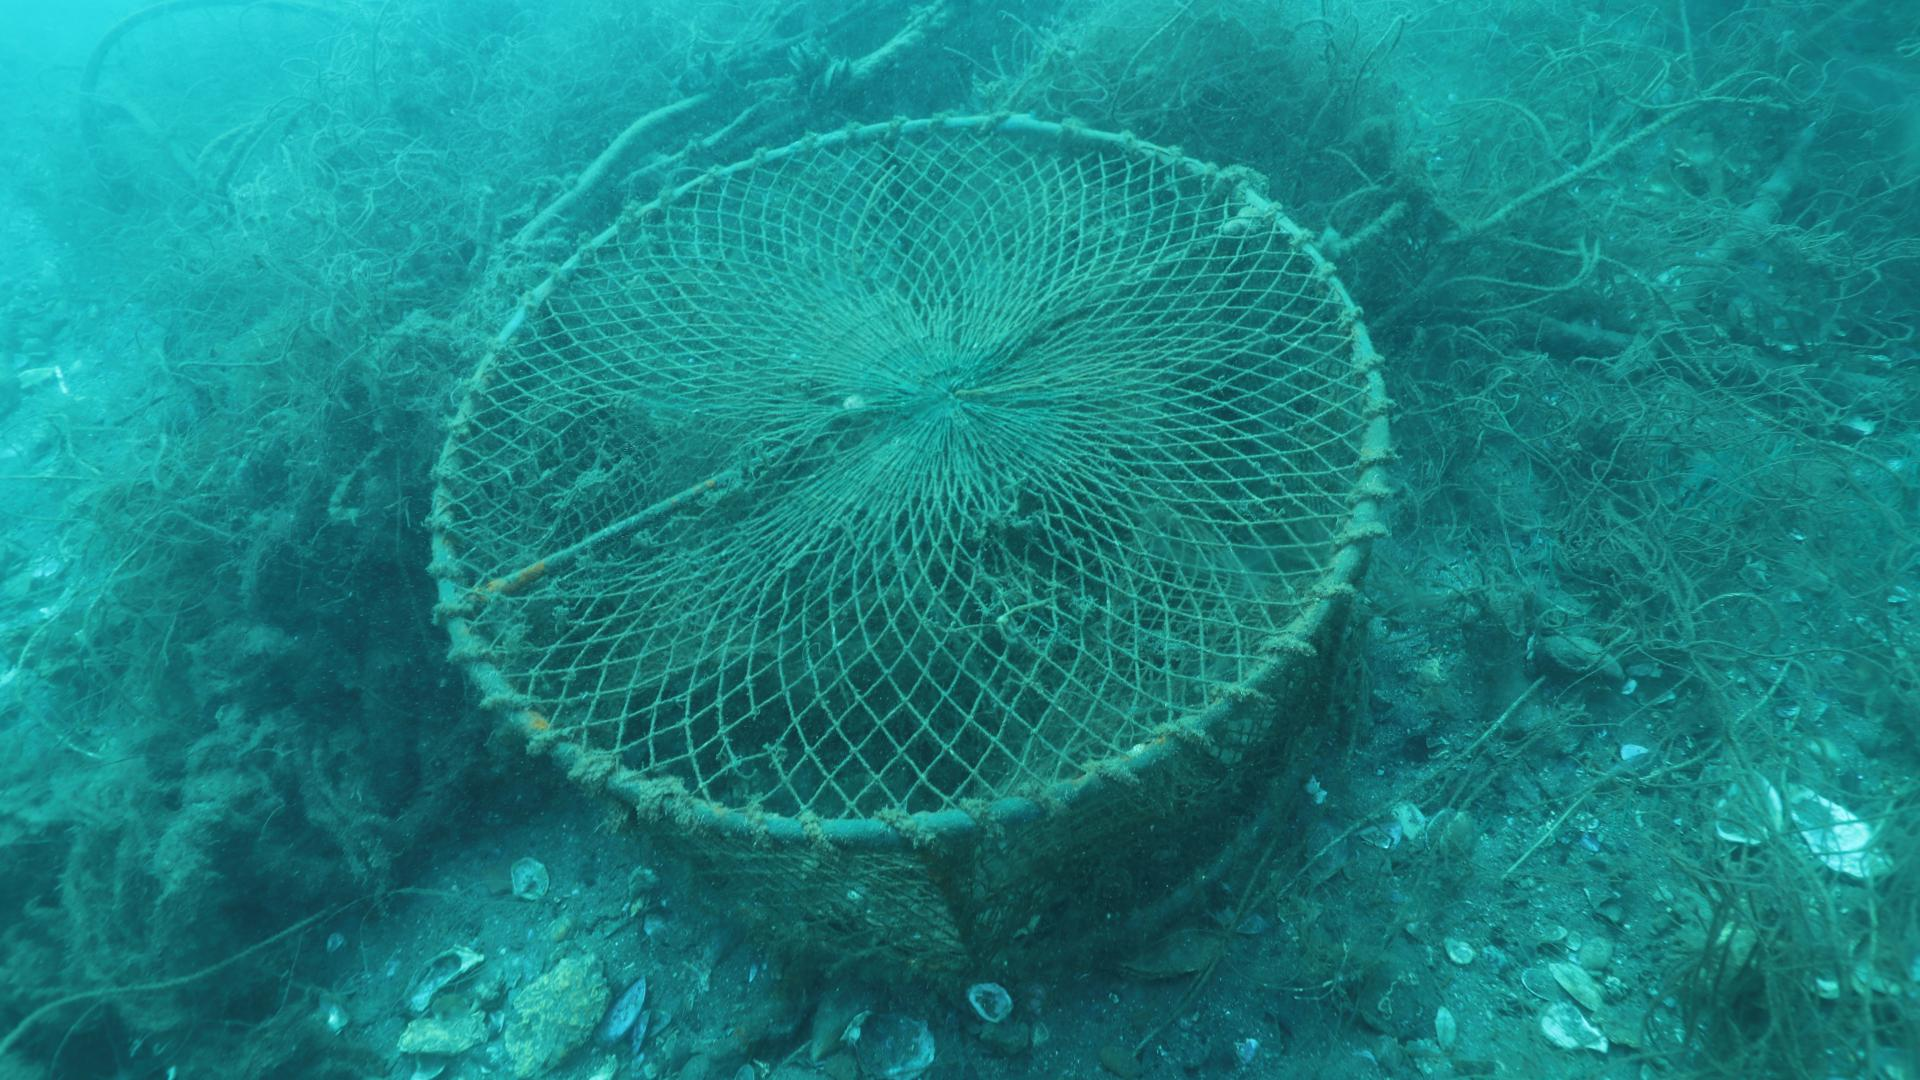circular fish trap: (419, 105, 1398, 990)
